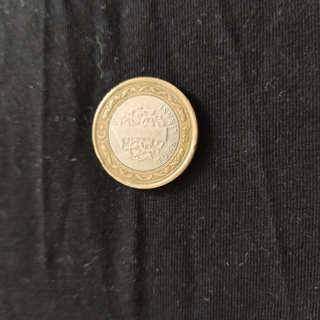1TL: (90, 74, 201, 191)
